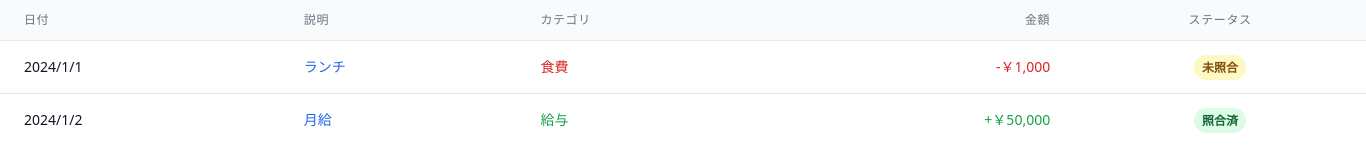
Test: TransactionList › 編集をキャンセルできる
# カテゴリをクリックして編集モードに
Click the button "食費" at [554, 67], box x1=540 y1=57 x2=568 y2=77
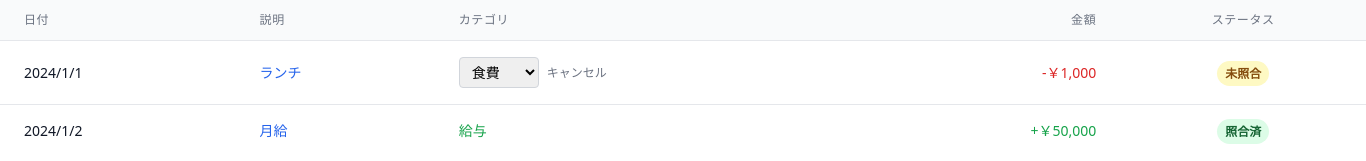
Check: the dropdown is shown, box x1=459 y1=57 x2=539 y2=88
# キャンセルボタンをクリック
Click the button "キャンセル" at [577, 72], box x1=547 y1=64 x2=607 y2=80
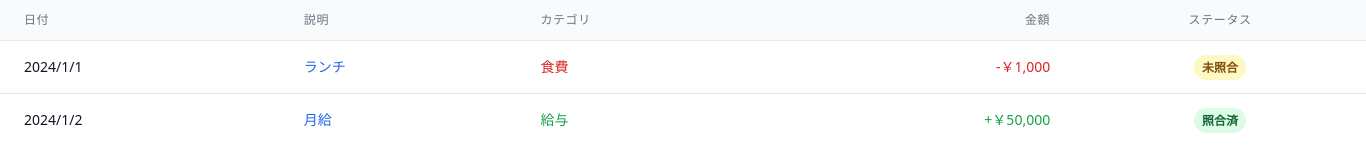
Check: the dropdown is gone
Check: the button "食費" is shown, box x1=540 y1=57 x2=568 y2=77
